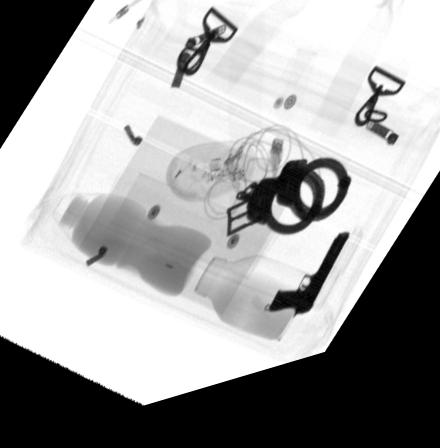Gun: (268, 252, 349, 333)
HandCuffs: (233, 174, 352, 253)
